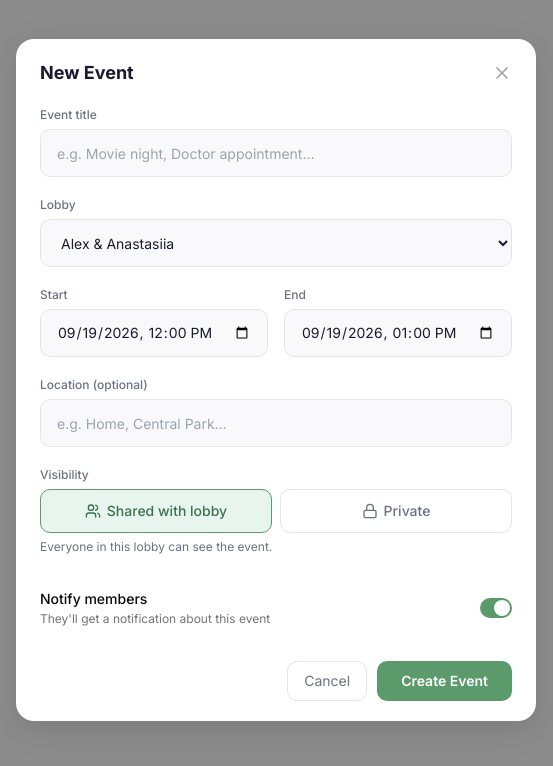
CreateEventModal › surfaces a generic error on a 500 response
This screenshot has width=553, height=766.
Type "Board game night" into the field with placeholder "e.g. Movie night, Doctor appointment…" at coordinates (276, 153), box left=40, top=129, right=512, bottom=177
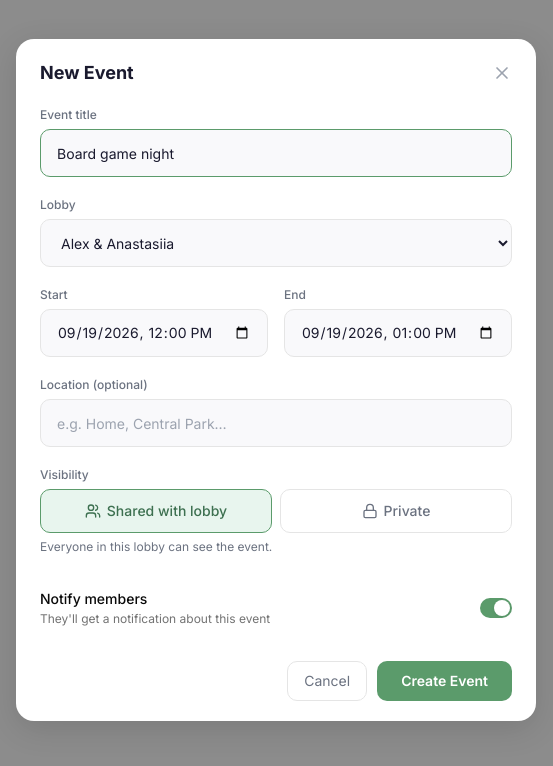
Click the button "Create Event" at coordinates (445, 681), box left=377, top=661, right=512, bottom=701
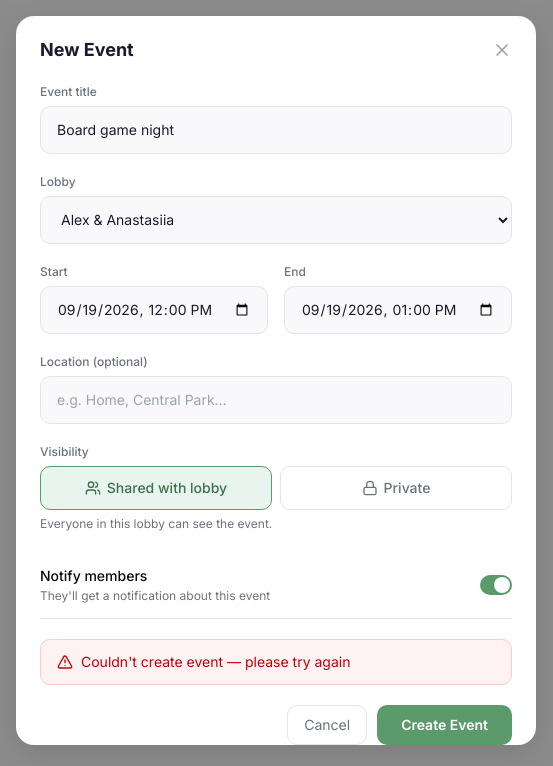
Expected: the message reads "Couldn't create event — please try again", left=81, top=652, right=350, bottom=670
